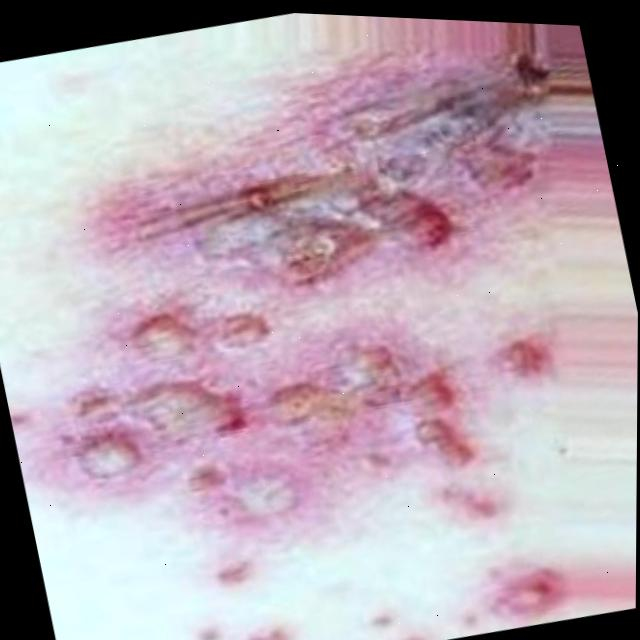Shingles: (13, 109, 591, 640)
